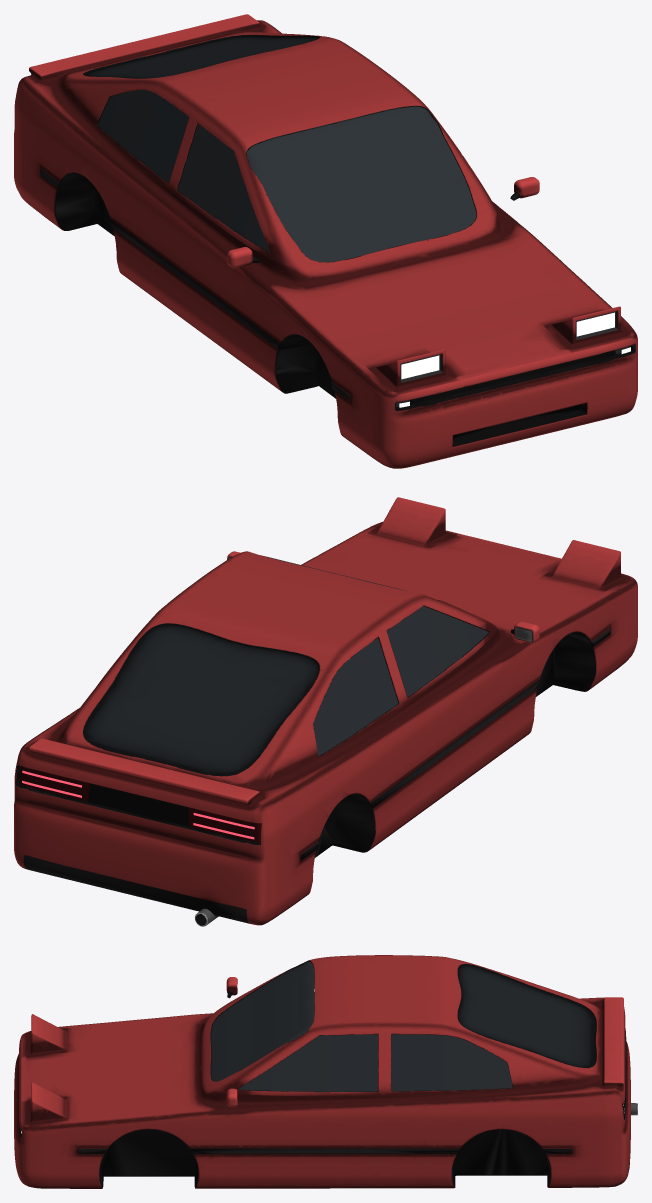
Rendered from touge.glb.
3 views of the same model, one above another, from view 1: azimuth 30°, elevation 25°; view 2: azimuth 150°, elevation 25°; view 3: azimuth 270°, elevation 25° (orthographic). The views are drawn at different scales.
Visible parts, largest first — view 1: paint, window, trim, glass, grille, lens, head; view 2: paint, glass, trim, window, tail, tailglow; view 3: paint, window, trim, glass.
Boxes of the visible parts, x1=… form: paint: x1=14, y1=14, x2=637, y2=468; window: x1=98, y1=90, x2=476, y2=262; trim: x1=40, y1=89, x2=635, y2=446; glass: x1=83, y1=35, x2=319, y2=78; grille: x1=409, y1=350, x2=615, y2=442; lens: x1=399, y1=312, x2=630, y2=407; head: x1=396, y1=311, x2=628, y2=406; paint: x1=14, y1=497, x2=637, y2=925; glass: x1=83, y1=623, x2=319, y2=776; trim: x1=15, y1=605, x2=610, y2=923; window: x1=262, y1=555, x2=488, y2=755; tail: x1=19, y1=766, x2=261, y2=842; tailglow: x1=22, y1=770, x2=254, y2=839; paint: x1=14, y1=955, x2=630, y2=1188; window: x1=211, y1=961, x2=512, y2=1091; trim: x1=19, y1=960, x2=630, y2=1188; glass: x1=457, y1=964, x2=596, y2=1067.
Size of what is drawn, in the model's own units: 1.94 by 1.16 by 4.25.
